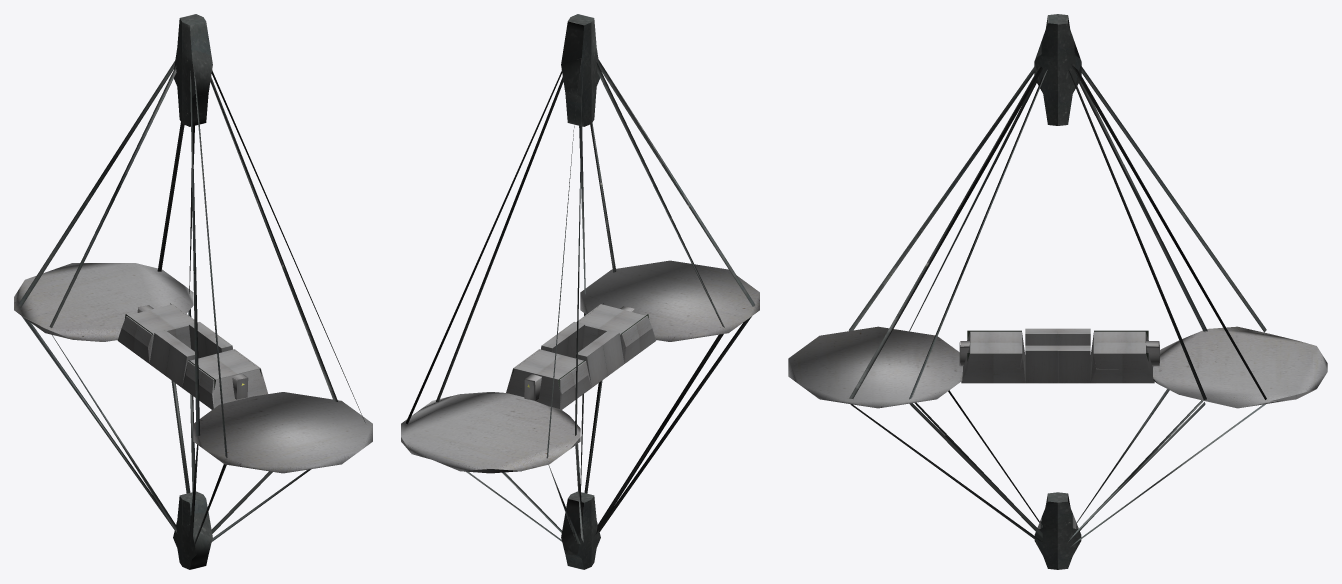
File: elevator_lod2.FBX
3 views of the same model, side by side, from view 1: azimuth 30°, elevation 25°; view 2: azimuth 150°, elevation 25°; view 3: azimuth 270°, elevation 25° (orthographic).
Visible parts, largest first — view 1: Box515; view 2: Box515; view 3: Box515.
Boxes of the visible parts, x1=… form: Box515: x1=14, y1=14, x2=372, y2=569; Box515: x1=401, y1=14, x2=759, y2=569; Box515: x1=788, y1=14, x2=1327, y2=569.
Bounding box in the file's own units: 708 × 2334 × 2090.
Materials: 1 (1 with a texture image).
